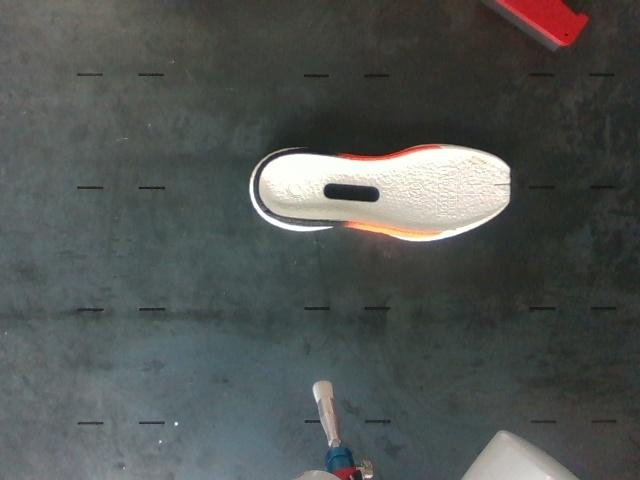shoes: (259, 148, 517, 233)
